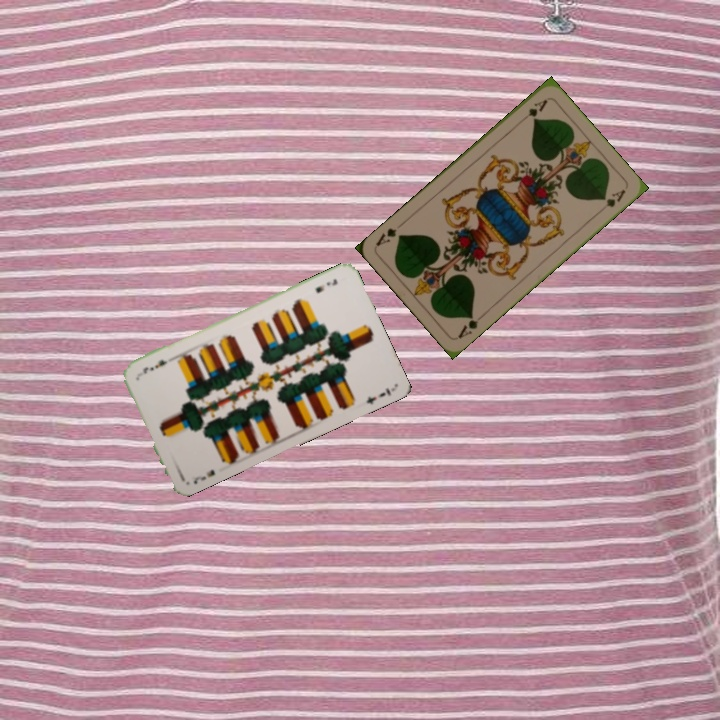E7: (189, 465, 218, 487), (311, 275, 340, 296)
GA: (454, 311, 487, 342), (516, 95, 550, 125)
